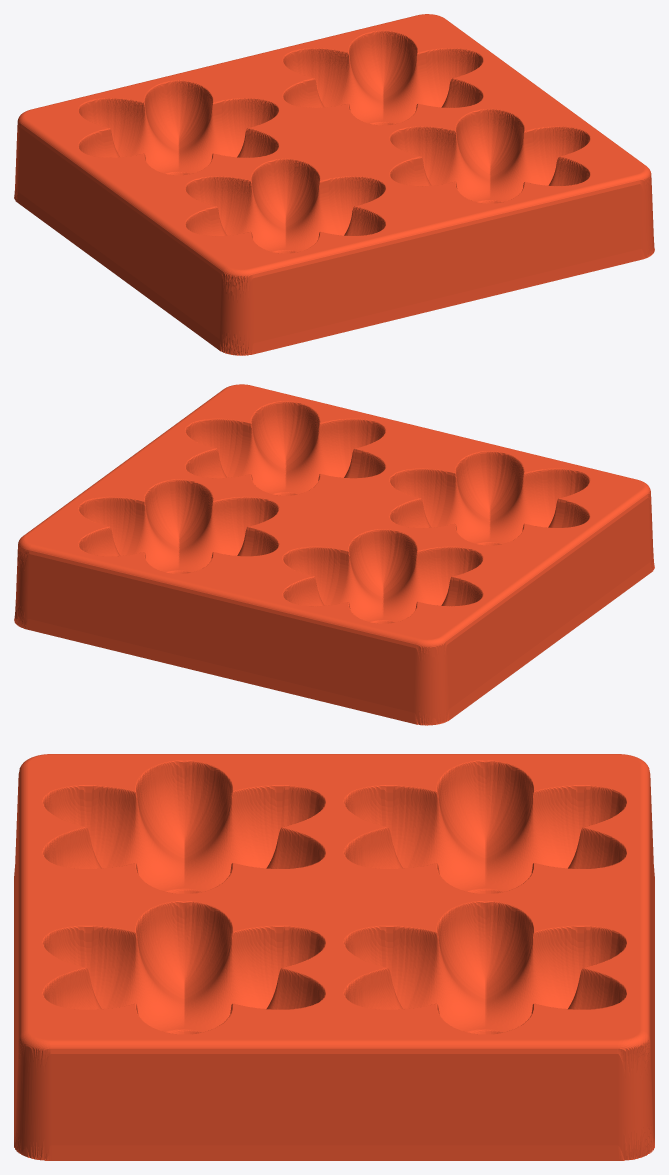
The model's file is mold.glb.
3 renders of one model, top to bottom at view 1: azimuth 30°, elevation 25°; view 2: azimuth 150°, elevation 25°; view 3: azimuth 270°, elevation 25°, orthographic. The views are drawn at different scales.
Visible parts, largest first — view 1: geometry_0; view 2: geometry_0; view 3: geometry_0.
Boxes of the visible parts, x1,y1,x2,y2 form: geometry_0: (14, 14, 654, 355); geometry_0: (14, 384, 654, 725); geometry_0: (14, 754, 654, 1160).
Bounding box in the file's own units: 0.1721 × 0.031 × 0.1568.
